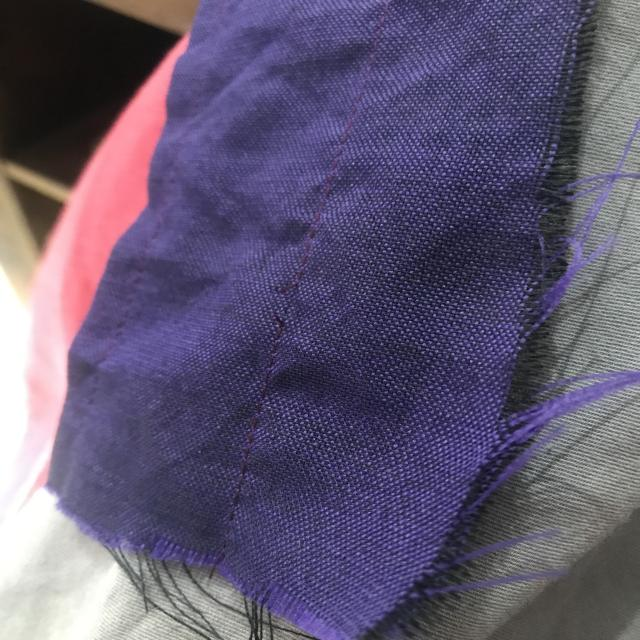broken: (253, 267, 312, 336)
